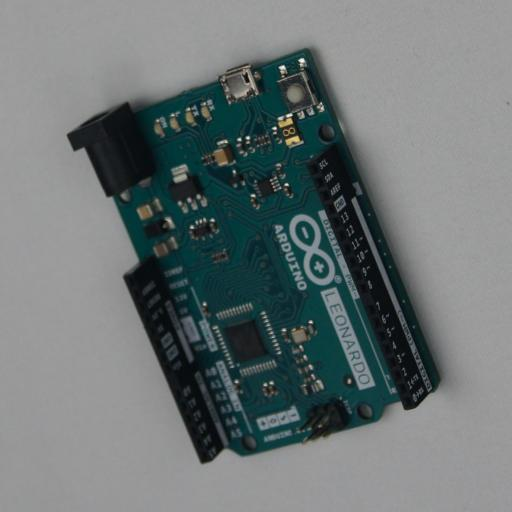Arduino Leonardo: (67, 48, 443, 464)
